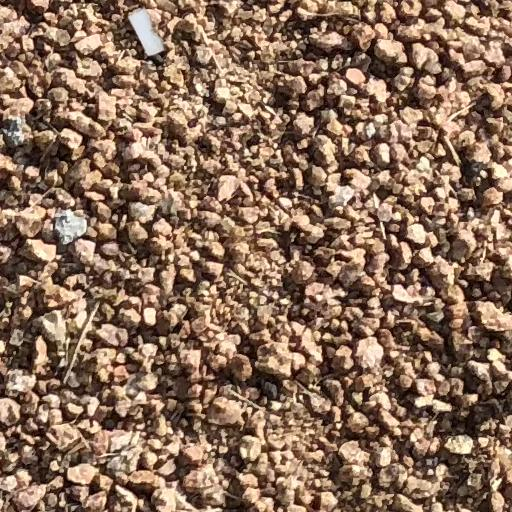smoke: (129, 8, 164, 55)
